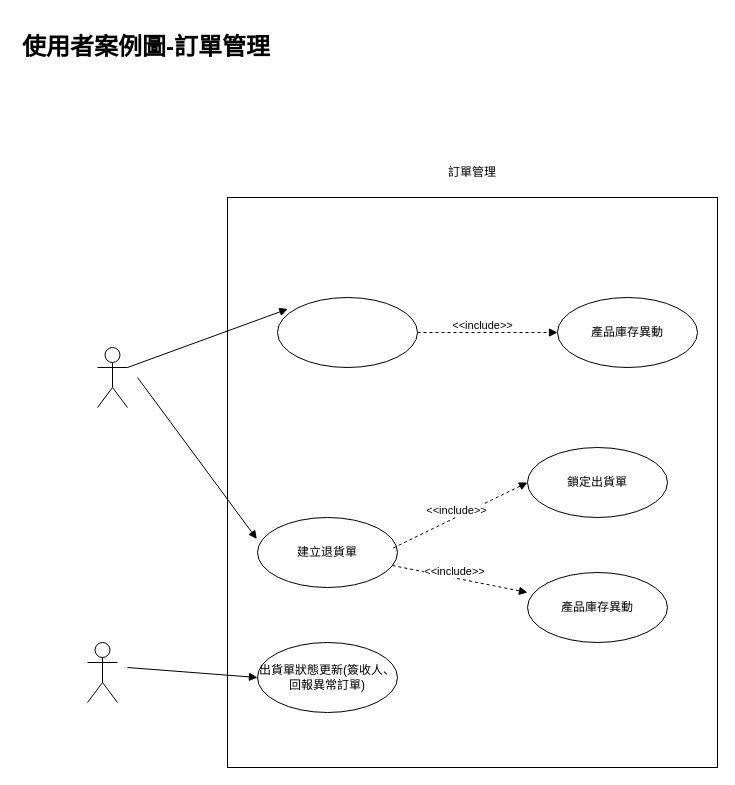
Image size: 735x785. Some labels were removed from this diagram. The centre of each missing label's shape, as x and y in pixels:
"建立出貨單" goes at point (347, 332).
"訂單管理人員" goes at point (112, 377).
"訂單點收人員" goes at point (102, 672).
